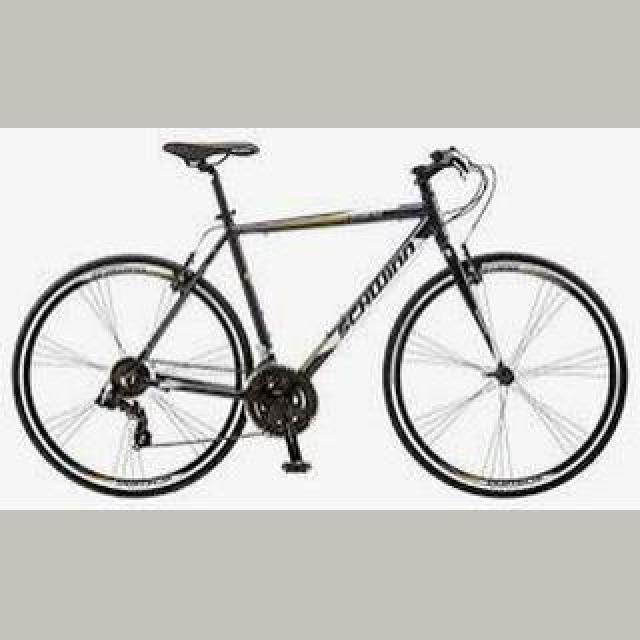Person: (11, 139, 635, 499)
